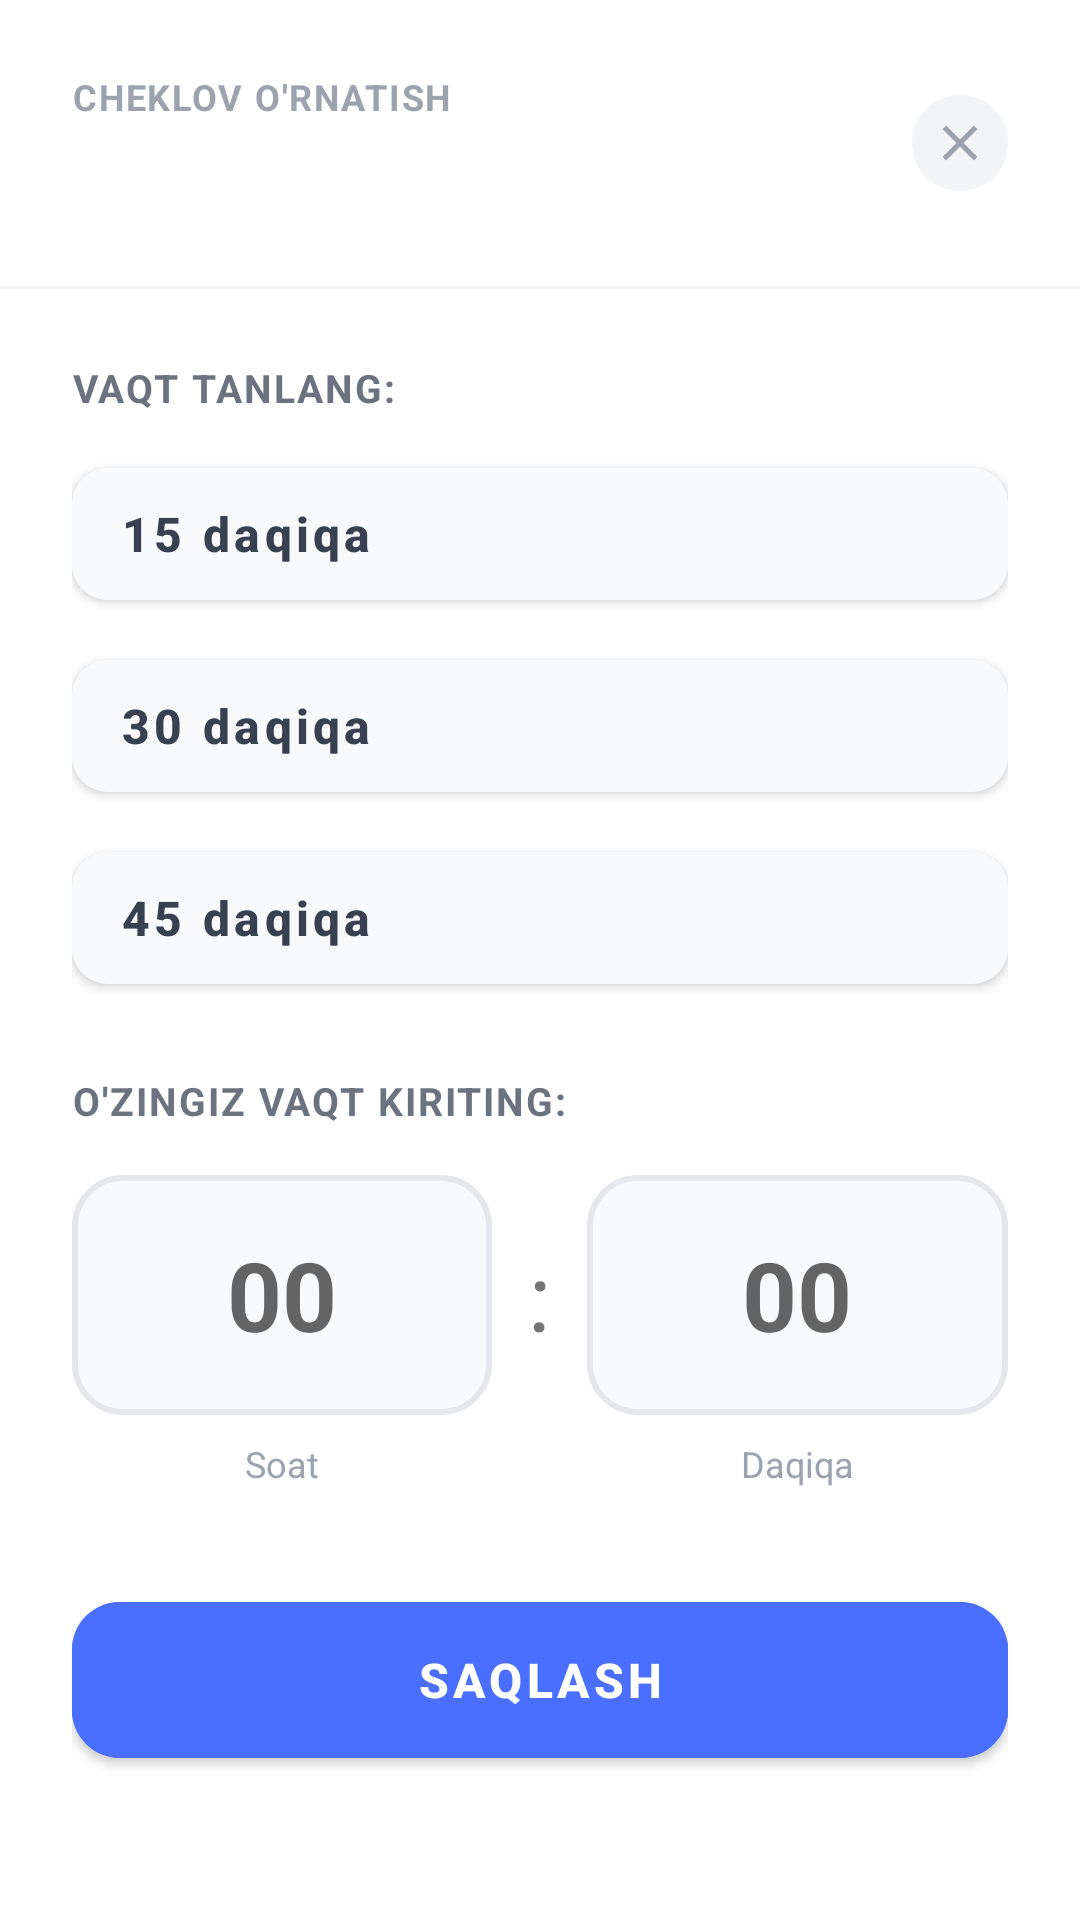

Point at icon controls on the screen. Image size 1080*1920, points as (x=x, y=y).
close: (x=960, y=143)
